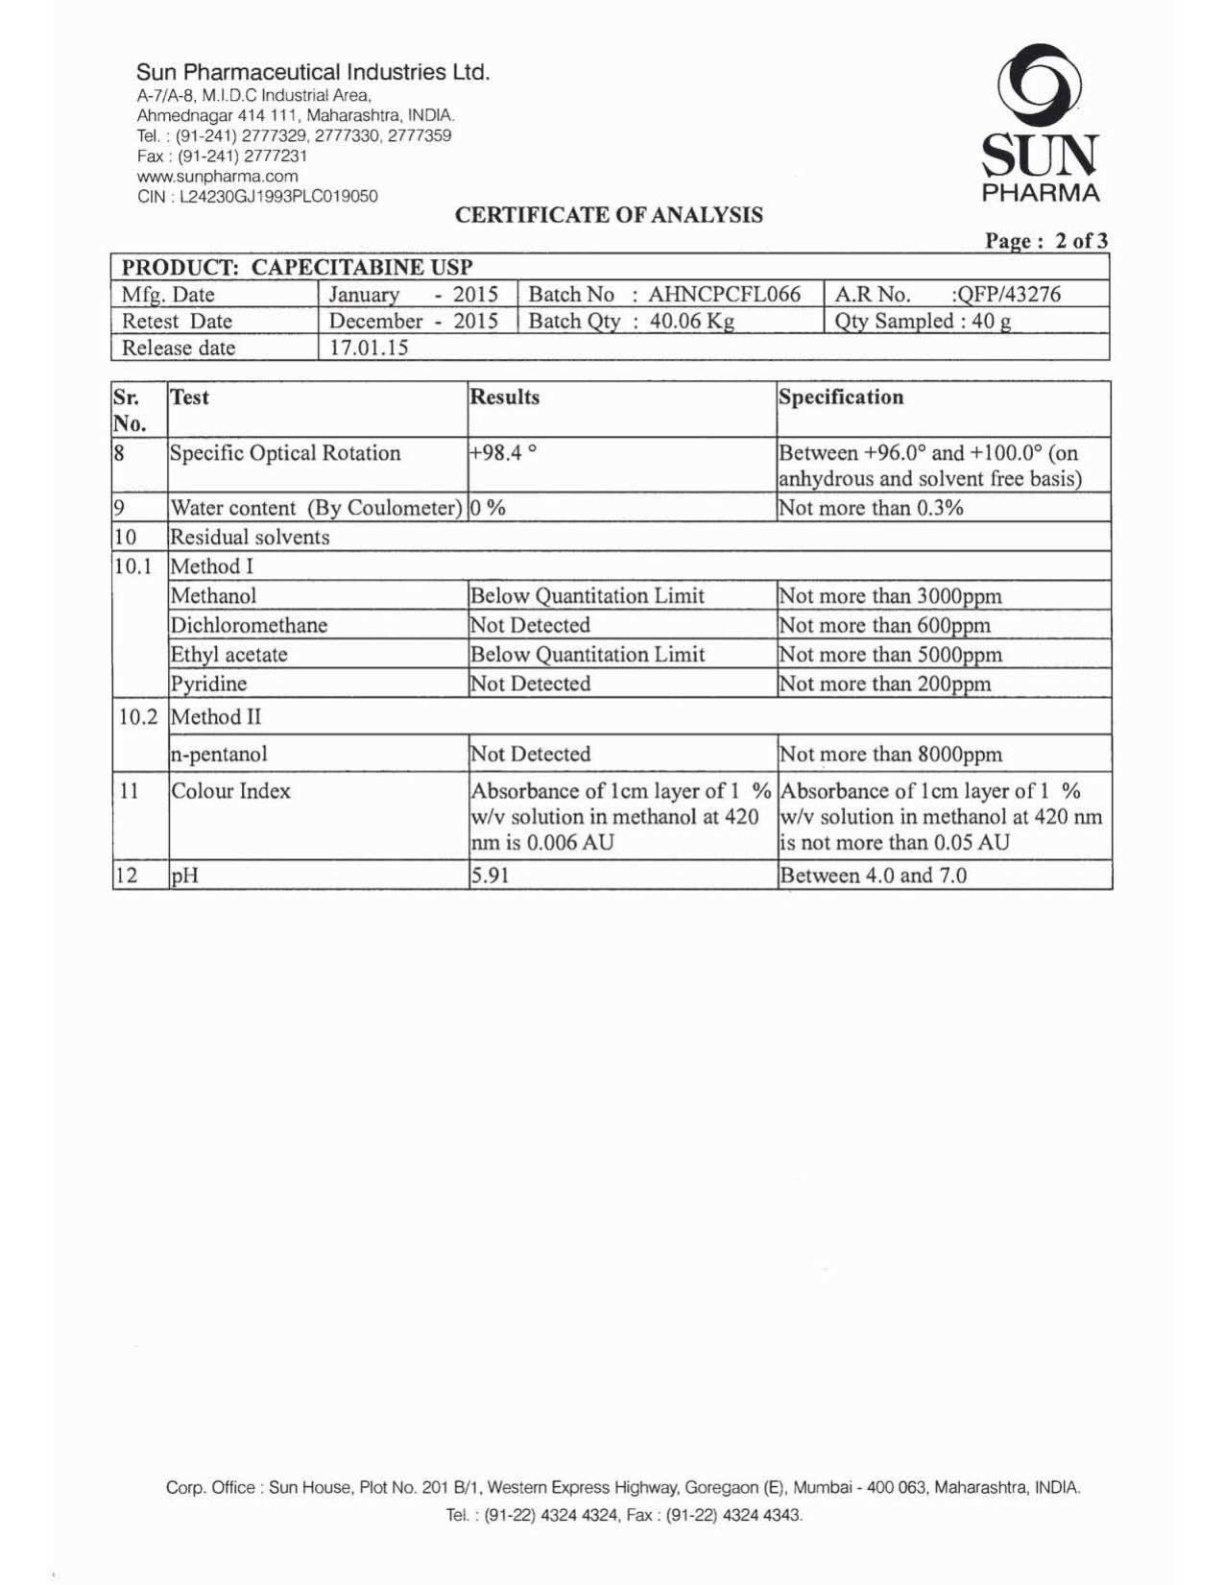merged_cells: (108, 378, 1115, 892), (108, 251, 1111, 363)
